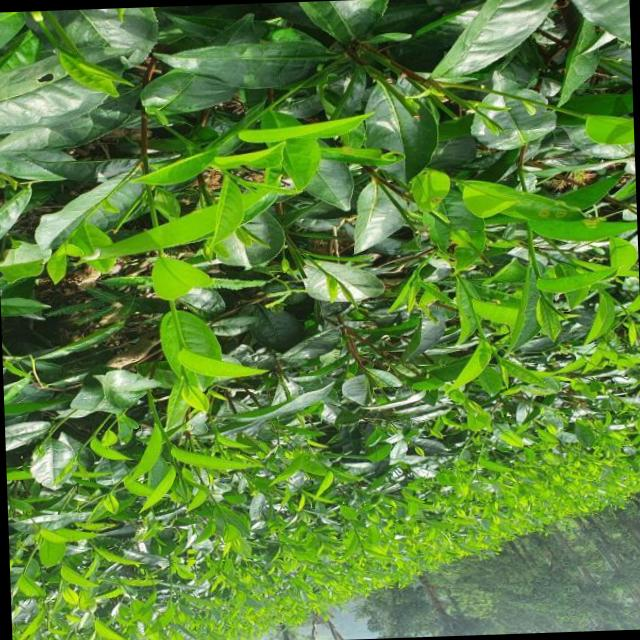Stem: (174, 324, 184, 345), (82, 207, 96, 219), (159, 428, 169, 444), (476, 323, 484, 337), (531, 262, 538, 276), (415, 261, 425, 270), (20, 564, 26, 572), (319, 266, 325, 273), (77, 445, 83, 451)
